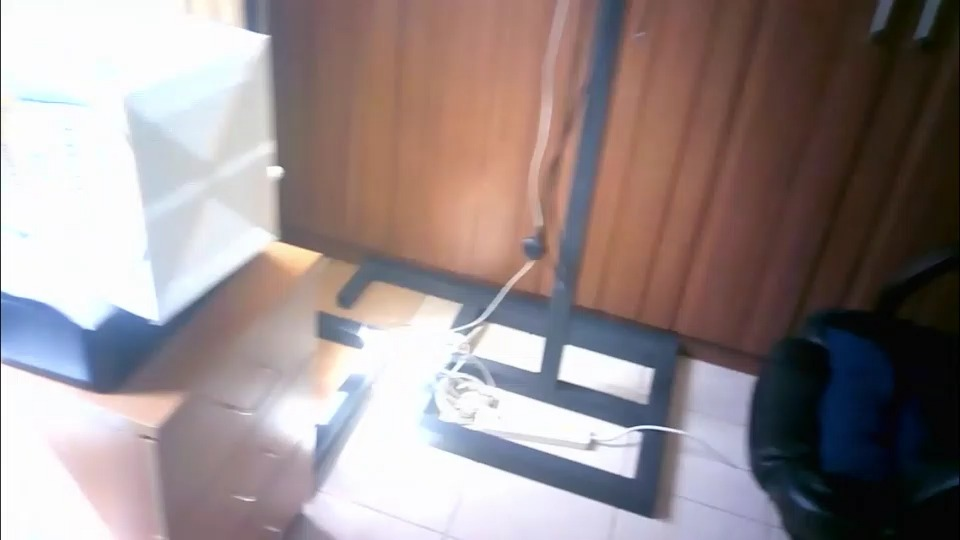wheat_flour_blue_label: (2, 26, 282, 310)
